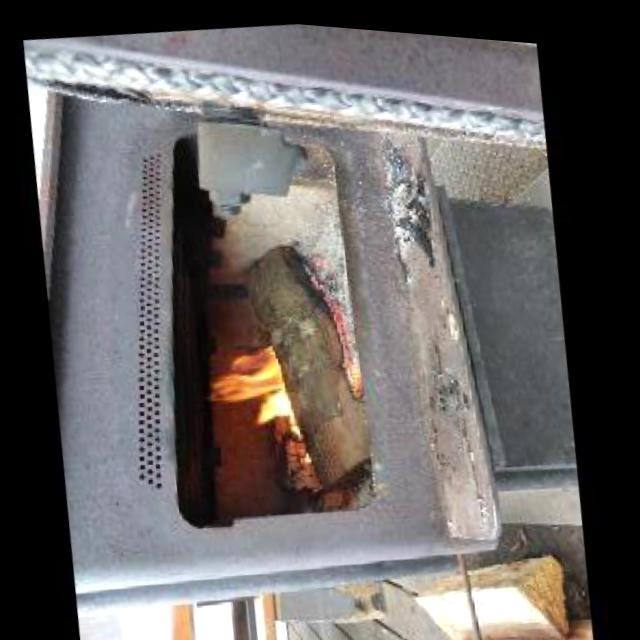fire: (208, 334, 304, 438)
